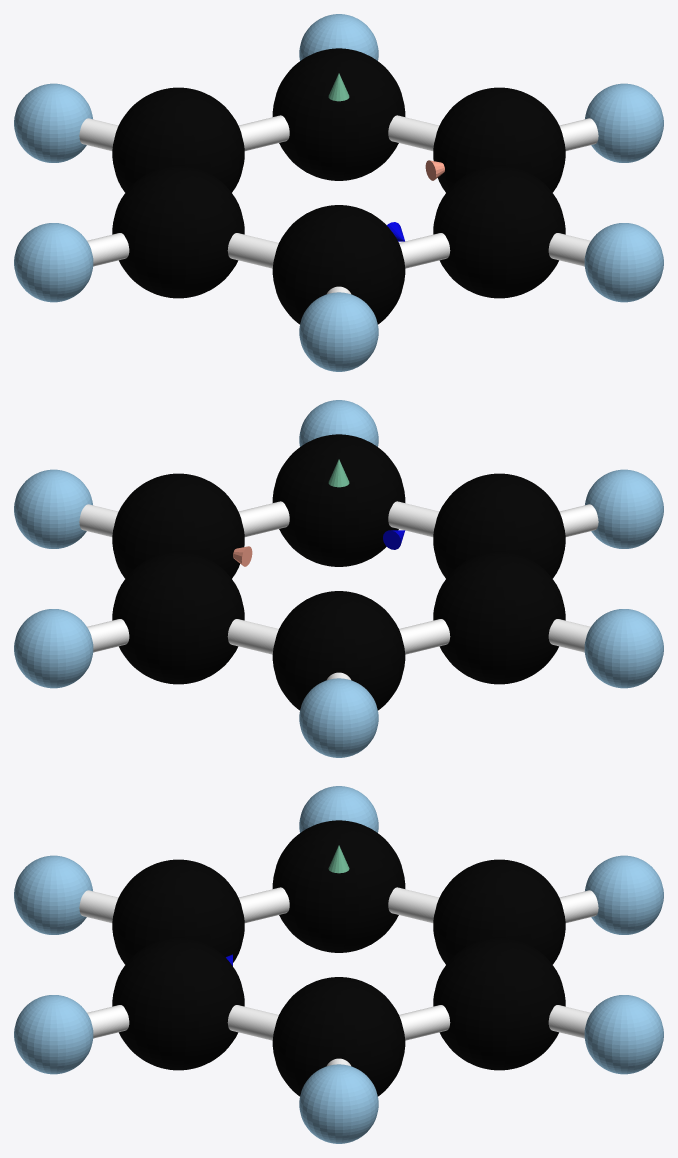
File: differ-2-3-13.gltf
The picture shows the model from 3 angles, top to bottom: view 1: azimuth 30°, elevation 25°; view 2: azimuth 150°, elevation 25°; view 3: azimuth 270°, elevation 25°; orthographic projection.
Visible parts, largest first — view 1: Renderer Node (×2); view 2: Renderer Node (×2); view 3: Renderer Node.
Boxes of the visible parts, x1=… form: Renderer Node (×2): x1=14, y1=14, x2=663, y2=371; Renderer Node (×2): x1=14, y1=400, x2=663, y2=757; Renderer Node: x1=14, y1=786, x2=663, y2=1143.
Size of the model in its own units: 5.56 by 1.5 by 4.9.
